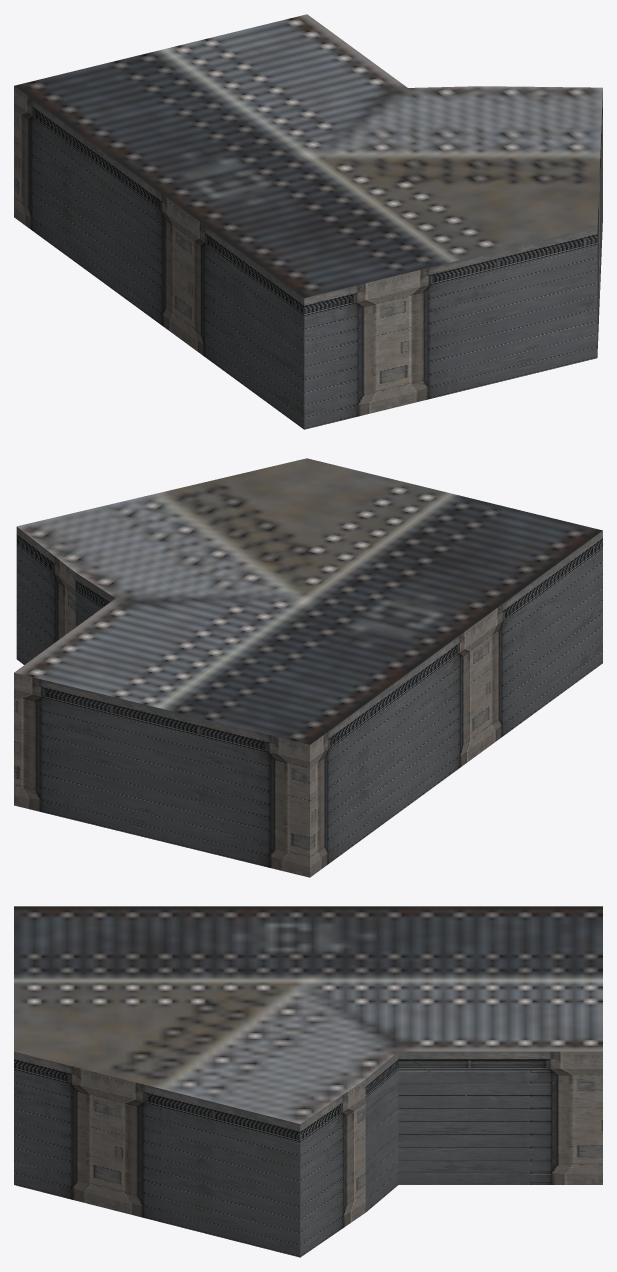
Rendered from hangar_heavy_13.glb.
The picture shows the model from 3 angles, top to bottom: view 1: azimuth 30°, elevation 25°; view 2: azimuth 150°, elevation 25°; view 3: azimuth 270°, elevation 25°; orthographic projection.
Parts seen in each view (by area): view 1: buildings/saxarba/hangar_heavy/hangar_heavy_13; view 2: buildings/saxarba/hangar_heavy/hangar_heavy_13; view 3: buildings/saxarba/hangar_heavy/hangar_heavy_13.
Part boxes in pixels (bbox=[...]): buildings/saxarba/hangar_heavy/hangar_heavy_13: bbox=[14, 14, 602, 429]; buildings/saxarba/hangar_heavy/hangar_heavy_13: bbox=[14, 458, 602, 877]; buildings/saxarba/hangar_heavy/hangar_heavy_13: bbox=[14, 906, 602, 1257].
Size of the model in its own units: 63 by 18 by 72.
